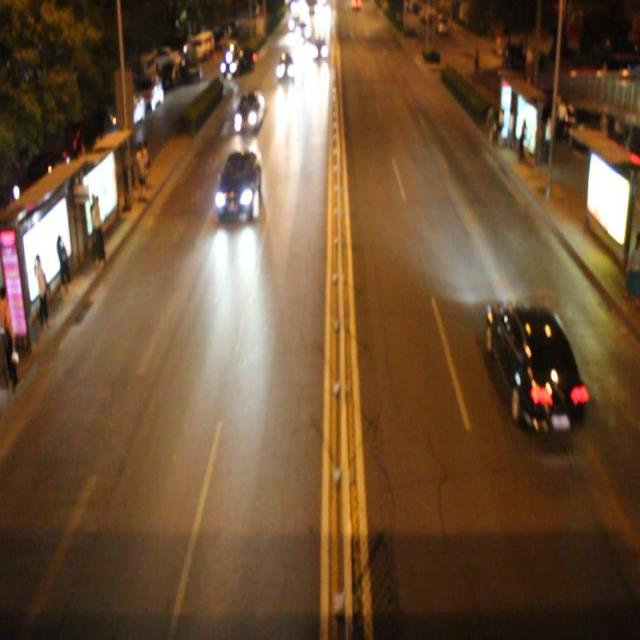car: (488, 299, 588, 437), (215, 149, 263, 227), (234, 92, 265, 139), (275, 51, 297, 86)
